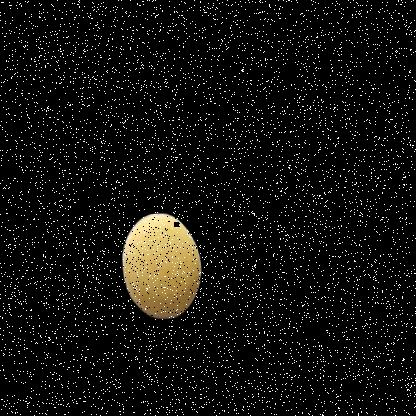rabeparzole20: (100, 187, 223, 345)
